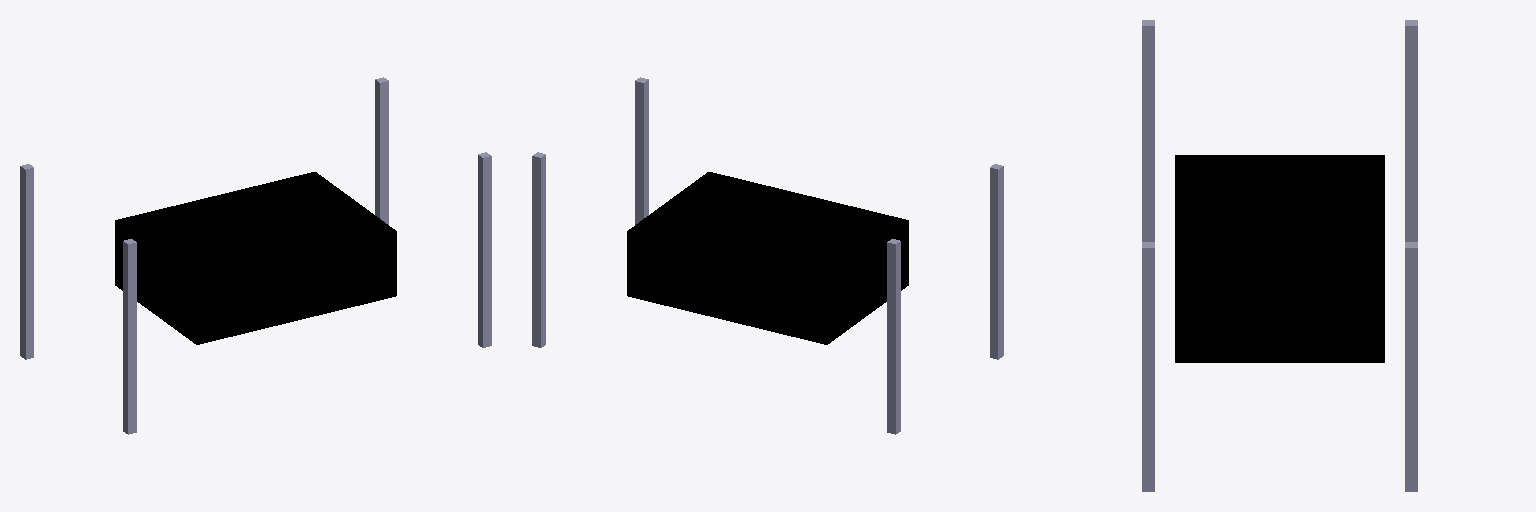
robot.urdf — minitaur:
<?xml version="1.0" ?>
<robot name="minitaur" xmlns:xacro="http://ros.org/wiki/xacro">
  <link name="base_chassis_link">
    <visual>
      <geometry>
        <box size=".226 0.16 .07"/>
      </geometry>
      <material name="black">
        <color rgba="0 0 0 1"/>
      </material>
    </visual>
    <collision>
      <geometry>
       <box size=".226 0.16 .07"/>
      </geometry>
    </collision>
    <inertial>
      <mass value="6.0"/>
      <inertia ixx="0.020687" ixy="0.0" ixz="0.0" iyy="0.05365" iyz="0.0" izz="0.035710"/>
      <origin rpy="0 0 0" xyz="0 0 0"/>
    </inertial>
  </link>

  <link name="upper_leg_front_leftL_link">
    <visual>
      <origin rpy="0 0 0" xyz="0 0 0.05"/>
      <geometry>
        <box size=".01 0.01 .11"/>
      </geometry>
      <material name="grey">
        <color rgba="0.65 0.65 0.75 1"/>
      </material>
    </visual>
    <collision>
      <geometry>
        <box size=".01 0.01 .11"/>
      </geometry>
    </collision>
    <inertial>
      <mass value="0.026"/>
      <inertia ixx="0.00001375" ixy="0.0" ixz="0.0" iyy="0.00004577" iyz="0.0" izz="0.000056083"/>
      <origin rpy="0 0 0" xyz="0 0 0.05"/>
    </inertial>
  </link>
  <joint name="motor_front_leftL_joint" type="continuous">
    <axis xyz="0 1 0"/>
    <parent link="base_chassis_link"/>
    <child link="upper_leg_front_leftL_link"/>
    <origin rpy="0 0 3.14159" xyz="0.2 0.1 0"/>
    <limit effort="100" velocity="1000"/>
    <joint_properties damping="0.0" friction="0.0"/>
  </joint>
  <transmission name="motor_front_leftL_trans" type="pr2_mechanism_model/SimpleTransmission">
    <joint name="motor_front_leftL_joint"/>
    <actuator name="motor_front_leftL_motor"/>
    <mechanicalReduction>1</mechanicalReduction>
  </transmission>

  <link name="upper_leg_front_leftR_link">
    <visual>
      <origin rpy="0 0 0" xyz="0 0 0.05"/>
      <geometry>
        <box size=".01 0.01 .11"/>
      </geometry>
      <material name="grey">
        <color rgba="0.65 0.65 0.75 1"/>
      </material>
    </visual>
    <collision>
      <geometry>
        <box size=".01 0.01 .11"/>
      </geometry>
    </collision>
    <inertial>
      <mass value="0.026"/>
      <inertia ixx="0.00001375" ixy="0.0" ixz="0.0" iyy="0.00004577" iyz="0.0" izz="0.000056083"/>
      <origin rpy="0 0 0" xyz="0 0 0.05"/>
    </inertial>
  </link>
  <joint name="motor_front_leftR_joint" type="continuous">
    <axis xyz="0 1 0"/>
    <parent link="base_chassis_link"/>
    <child link="upper_leg_front_leftR_link"/>
    <origin rpy="0 0 0" xyz="0.2 0.1 0"/>
    <limit effort="100" velocity="1000"/>
    <joint_properties damping="0.0" friction="0.0"/>
  </joint>
<transmission name="motor_front_leftR_trans" type="pr2_mechanism_model/SimpleTransmission">
    <joint name="motor_front_leftR_joint"/>
    <actuator name="motor_front_leftR_motor"/>
    <mechanicalReduction>1</mechanicalReduction>
  </transmission>
  
  <link name="lower_leg_front_leftL_link">
    <visual>
      <origin rpy="0.0 0 0" xyz="0 0 .1"/>
      <geometry>
        <box size=".01 0.01 .2"/>
      </geometry>
      <material name="grey">
        <color rgba="0.65 0.65 0.75 1"/>
      </material>
    </visual>
    <collision>
      <origin rpy="0.0 0 0" xyz="0 0 .1"/>
      <geometry>
        <box size=".01 0.01 .2"/>
      </geometry>
    </collision>
    <inertial>
      <mass value="0.05186"/>
      <inertia ixx="0.0000021756" ixy="0.0" ixz="0.0" iyy="0.0002450" iyz="0.0" izz="0.0002450"/>
      <origin rpy="0.0 0 0" xyz="0 0 .1"/>
    </inertial>
  </link>
  <joint name="knee_front_leftL_link" type="revolute">
    <axis xyz="0 1 0"/>
    <parent link="upper_leg_front_leftL_link"/>
    <child link="lower_leg_front_leftL_link"/>
    <origin rpy="3.14159 0 0" xyz="0.0 0.0 .1"/>
    <limit effort="100" velocity="1000"/>
    <joint_properties damping="0.0" friction="0.0"/>
  </joint>

  <link name="lower_leg_front_leftR_link">
    <visual>
      <origin rpy="0.0 0 0" xyz="0 0 .1"/>
      <geometry>
        <box size=".01 0.01 .2"/>
      </geometry>
      <material name="grey">
        <color rgba="0.65 0.65 0.75 1"/>
      </material>
    </visual>
    <collision>
      <origin rpy="0.0 0 0" xyz="0 0 .1"/>
      <geometry>
        <box size=".01 0.01 .2"/>
      </geometry>
    </collision>
    <inertial>
      <mass value="0.043"/>
      <inertia ixx="0.000002404" ixy="0.0" ixz="0.0" iyy="0.000270806" iyz="0.0" izz="0.000270806"/>
      <origin rpy="0.0 0 0" xyz="0 0 .1"/>
    </inertial>
  </link>
  <joint name="knee_front_leftR_link" type="revolute">
    <axis xyz="0 1 0"/>
    <parent link="upper_leg_front_leftR_link"/>
    <child link="lower_leg_front_leftR_link"/>
    <origin rpy="3.14159 0 0" xyz="0.0 0.0 .1"/>
    <limit effort="100" velocity="1000"/>
    <joint_properties damping="0.0" friction="0.0"/>
  </joint>
  
  <link name="upper_leg_back_leftL_link">
    <visual>
      <origin rpy="0 0 0" xyz="0 0 0.05"/>
      <geometry>
        <box size="0.01 0.01 .11"/>
      </geometry>
      <material name="grey">
        <color rgba="0.65 0.65 0.75 1"/>
      </material>
    </visual>
    <collision>
      <geometry>
        <box size=".01 0.01 .11"/>
      </geometry>
    </collision>
    <inertial>
      <mass value="0.026"/>
      <inertia ixx="0.00001375" ixy="0.0" ixz="0.0" iyy="0.00004577" iyz="0.0" izz="0.000056083"/>
      <origin rpy="0 0 0" xyz="0 0 0.05"/>
    </inertial>
  </link>
  <joint name="motor_back_leftL_joint" type="continuous">
    <axis xyz="0 1 0"/>
    <parent link="base_chassis_link"/>
    <child link="upper_leg_back_leftL_link"/>
    <origin rpy="0 0 3.14159" xyz="-0.2 0.1 0"/>
    <limit effort="100" velocity="1000"/>
    <joint_properties damping="0.0" friction="0.0"/>
  </joint>
  <transmission name="motor_back_leftL_trans" type="pr2_mechanism_model/SimpleTransmission">
    <joint name="motor_back_leftL_joint"/>
    <actuator name="motor_back_leftL_motor"/>
    <mechanicalReduction>1</mechanicalReduction>
  </transmission>

	<link name="upper_leg_back_leftR_link">
    <visual>
      <origin rpy="0 0 0" xyz="0 0 0.05"/>
      <geometry>
        <box size=".01 0.01 .11"/>
      </geometry>
      <material name="grey">
        <color rgba="0.65 0.65 0.75 1"/>
      </material>
    </visual>
    <collision>
      <geometry>
        <box size=".01 0.01 .11"/>
      </geometry>
    </collision>
    <inertial>
      <mass value="0.026"/>
      <inertia ixx="0.00001375" ixy="0.0" ixz="0.0" iyy="0.00004577" iyz="0.0" izz="0.000056083"/>
      <origin rpy="0 0 0" xyz="0 0 0.05"/>
    </inertial>
  </link>
  <joint name="motor_back_leftR_joint" type="continuous">
    <axis xyz="0 1 0"/>
    <parent link="base_chassis_link"/>
    <child link="upper_leg_back_leftR_link"/>
    <origin rpy="0 0 0" xyz="-0.2 0.1 0"/>
    <limit effort="100" velocity="1000"/>
    <joint_properties damping="0.0" friction="0.0"/>
  </joint>
  <transmission name="motor_back_leftR_trans" type="pr2_mechanism_model/SimpleTransmission">
    <joint name="motor_back_leftR_joint"/>
    <actuator name="motor_back_leftR_motor"/>
    <mechanicalReduction>1</mechanicalReduction>
  </transmission>
  
  <link name="lower_leg_back_leftL_link">
    <visual>
    	<origin rpy="0.0 0 0" xyz="0 0 .1"/>
      <geometry>
        <box size=".01 0.01 .2"/>
      </geometry>
      <material name="grey">
        <color rgba="0.65 0.65 0.75 1"/>
      </material>
    </visual>
    <collision>
    	<origin rpy="0.0 0 0" xyz="0 0 .1"/>
      <geometry>
        <box size=".01 0.01 .2"/>
      </geometry>
    </collision>
    <inertial>
      <mass value="0.05186"/>
      <inertia ixx="0.0000021756" ixy="0.0" ixz="0.0" iyy="0.0002450" iyz="0.0" izz="0.0002450"/>
      <origin rpy="0.0 0 0" xyz="0 0 .1"/>
    </inertial>
  </link>
  <joint name="knee_back_leftL_link" type="revolute">
    <axis xyz="0 1 0"/>
    <parent link="upper_leg_back_leftL_link"/>
    <child link="lower_leg_back_leftL_link"/>
    <origin rpy="3.14159 0 0" xyz="0.0 0.0 .1"/>
    <limit effort="100" velocity="1000"/>
    <joint_properties damping="0.0" friction="0.0"/>
  </joint>
  
<link name="lower_leg_back_leftR_link">
    <visual>
      <origin rpy="0.0 0 0" xyz="0 0 .1"/>
      <geometry>
        <box size=".01 0.01 .2"/>
      </geometry>
      <material name="grey">
        <color rgba="0.65 0.65 0.75 1"/>
      </material>
    </visual>
    <collision>
      <origin rpy="0.0 0 0" xyz="0 0 .1"/>
      <geometry>
        <box size=".01 0.01 .2"/>
      </geometry>
    </collision>
    <inertial>
      <mass value="0.043"/>
      <inertia ixx="0.000002404" ixy="0.0" ixz="0.0" iyy="0.000270806" iyz="0.0" izz="0.000270806"/>
      <origin rpy="0.0 0 0" xyz="0 0 .1"/>
    </inertial>
  </link>
  <joint name="knee_back_leftR_link" type="revolute">
    <axis xyz="0 1 0"/>
    <parent link="upper_leg_back_leftR_link"/>
    <child link="lower_leg_back_leftR_link"/>
    <origin rpy="3.14159 0 0" xyz="0.0 0.0 .1"/>
    <limit effort="100" velocity="1000"/>
    <joint_properties damping="0.0" friction="0.0"/>
  </joint>

  <link name="upper_leg_front_rightL_link">
    <visual>
      <origin rpy="0 0 0" xyz="0 0 0.05"/>
      <geometry>
        <box size=".01 0.01 .11"/>
      </geometry>
      <material name="grey">
        <color rgba="0.65 0.65 0.75 1"/>
      </material>
    </visual>
    <collision>
      <geometry>
        <box size=".01 0.01 .11"/>
      </geometry>
    </collision>
    <inertial>
      <mass value="0.026"/>
      <inertia ixx="0.00001375" ixy="0.0" ixz="0.0" iyy="0.00004577" iyz="0.0" izz="0.000056083"/>
      <origin rpy="0 0 0" xyz="0 0 0.05"/>
    </inertial>
  </link>
  <joint name="motor_front_rightL_joint" type="continuous">
    <axis xyz="0 1 0"/>
    <parent link="base_chassis_link"/>
    <child link="upper_leg_front_rightL_link"/>
    <origin rpy="0 0 0" xyz="0.2 -0.1 0"/>
    <limit effort="100" velocity="1000"/>
    <joint_properties damping="0.0" friction="0.0"/>
  </joint>
  <transmission name="motor_front_rightL_trans" type="pr2_mechanism_model/SimpleTransmission">
    <joint name="motor_front_rightL_joint"/>
    <actuator name="motor_front_rightL_motor"/>
    <mechanicalReduction>1</mechanicalReduction>
  </transmission>

  <link name="upper_leg_front_rightR_link">
    <visual>
      <origin rpy="0 0 0" xyz="0 0 0.05"/>
      <geometry>
        <box size=".01 0.01 .11"/>
      </geometry>
      <material name="grey">
        <color rgba="0.65 0.65 0.75 1"/>
      </material>
    </visual>
    <collision>
      <geometry>
        <box size=".01 0.01 .11"/>
      </geometry>
    </collision>
    <inertial>
      <mass value="0.026"/>
      <inertia ixx="0.00001375" ixy="0.0" ixz="0.0" iyy="0.00004577" iyz="0.0" izz="0.000056083"/>
      <origin rpy="0 0 0" xyz="0 0 0.05"/>
    </inertial>
  </link>
  <joint name="motor_front_rightR_joint" type="continuous">
    <axis xyz="0 1 0"/>
    <parent link="base_chassis_link"/>
    <child link="upper_leg_front_rightR_link"/>
    <origin rpy="0 0 3.14159" xyz="0.2 -0.1 0"/>
    <limit effort="100" velocity="1000"/>
    <joint_properties damping="0.0" friction="0.0"/>
  </joint>
  <transmission name="motor_front_rightR_trans" type="pr2_mechanism_model/SimpleTransmission">
    <joint name="motor_front_rightR_joint"/>
    <actuator name="motor_front_rightR_motor"/>
    <mechanicalReduction>1</mechanicalReduction>
  </transmission>
  
  <link name="lower_leg_front_rightL_link">
    <visual>
      <origin rpy="0.0 0 0" xyz="0 0 .1"/>
      <geometry>
        <box size=".01 0.01 .2"/>
      </geometry>
      <material name="grey">
        <color rgba="0.65 0.65 0.75 1"/>
      </material>
    </visual>
    <collision>
      <origin rpy="0.0 0 0" xyz="0 0 .1"/>
      <geometry>
        <box size=".01 0.01 .2"/>
      </geometry>
    </collision>
    <inertial>
      <mass value="0.05186"/>
      <inertia ixx="0.0000021756" ixy="0.0" ixz="0.0" iyy="0.0002450" iyz="0.0" izz="0.0002450"/>
      <origin rpy="0.0 0 0" xyz="0 0 .1"/>
    </inertial>
  </link>
  <joint name="knee_front_rightL_link" type="revolute">
    <axis xyz="0 1 0"/>
    <parent link="upper_leg_front_rightL_link"/>
    <child link="lower_leg_front_rightL_link"/>
    <origin rpy="3.14159 0 0" xyz="0.0 0.0 .1"/>
    <limit effort="100" velocity="1000"/>
    <joint_properties damping="0.0" friction="0.0"/>
  </joint>  

  <link name="lower_leg_front_rightR_link">
    <visual>
      <origin rpy="0.0 0 0" xyz="0 0 .1"/>
      <geometry>
        <box size=".01 0.01 .2"/>
      </geometry>
      <material name="grey">
        <color rgba="0.65 0.65 0.75 1"/>
      </material>
    </visual>
    <collision>
      <origin rpy="0.0 0 0" xyz="0 0 .1"/>
      <geometry>
        <box size=".01 0.01 .2"/>
      </geometry>
    </collision>
    <inertial>
      <mass value="0.043"/>
      <inertia ixx="0.000002404" ixy="0.0" ixz="0.0" iyy="0.000270806" iyz="0.0" izz="0.000270806"/>
      <origin rpy="0.0 0 0" xyz="0 0 .1"/>
    </inertial>
  </link>
  <joint name="knee_front_rightR_link" type="revolute">
    <axis xyz="0 1 0"/>
    <parent link="upper_leg_front_rightR_link"/>
    <child link="lower_leg_front_rightR_link"/>
    <origin rpy="3.14159 0 0" xyz="0.0 0.0 .1"/>
    <limit effort="100" velocity="1000"/>
    <joint_properties damping="0.0" friction="0.0"/>
  </joint>
  
  <link name="upper_leg_back_rightL_link">
    <visual>
      <origin rpy="0 0 0" xyz="0 0 0.05"/>
      <geometry>
        <box size=".01 0.01 .11"/>
      </geometry>
      <material name="grey">
        <color rgba="0.65 0.65 0.75 1"/>
      </material>
    </visual>
    <collision>
      <geometry>
        <box size=".01 0.01 .11"/>
      </geometry>
    </collision>
    <inertial>
      <mass value="0.026"/>
      <inertia ixx="0.00001375" ixy="0.0" ixz="0.0" iyy="0.00004577" iyz="0.0" izz="0.000056083"/>
      <origin rpy="0 0 0" xyz="0 0 0.05"/>
    </inertial>
  </link>
  <joint name="motor_back_rightL_joint" type="continuous">
    <axis xyz="0 1 0"/>
    <parent link="base_chassis_link"/>
    <child link="upper_leg_back_rightL_link"/>
    <origin rpy="0 0 0" xyz="-0.2 -0.1 0"/>
    <limit effort="100" velocity="1000"/>
    <joint_properties damping="0.0" friction="0.0"/>
  </joint>
  <transmission name="motor_back_rightL_trans" type="pr2_mechanism_model/SimpleTransmission">
    <joint name="motor_back_rightL_joint"/>
    <actuator name="motor_back_rightL_motor"/>
    <mechanicalReduction>1</mechanicalReduction>
  </transmission>

	<link name="upper_leg_back_rightR_link">
    <visual>
      <origin rpy="0 0 0" xyz="0 0 0.05"/>
      <geometry>
        <box size=".01 0.01 .11"/>
      </geometry>
      <material name="grey">
        <color rgba="0.65 0.65 0.75 1"/>
      </material>
    </visual>
    <collision>
      <geometry>
        <box size=".01 0.01 .11"/>
      </geometry>
    </collision>
    <inertial>
      <mass value="0.026"/>
      <inertia ixx="0.00001375" ixy="0.0" ixz="0.0" iyy="0.00004577" iyz="0.0" izz="0.000056083"/>
      <origin rpy="0 0 0" xyz="0 0 0.05"/>
    </inertial>
  </link>
  <joint name="motor_back_rightR_joint" type="continuous">
    <axis xyz="0 1 0"/>
    <parent link="base_chassis_link"/>
    <child link="upper_leg_back_rightR_link"/>
    <origin rpy="0 0 3.14159" xyz="-0.2 -0.1 0"/>
    <limit effort="100" velocity="1000"/>
    <joint_properties damping="0.0" friction="0.0"/>
  </joint>
  <transmission name="motor_back_rightR_trans" type="pr2_mechanism_model/SimpleTransmission">
    <joint name="motor_back_rightR_joint"/>
    <actuator name="motor_back_rightR_motor"/>
    <mechanicalReduction>1</mechanicalReduction>
  </transmission>
  
  <link name="lower_leg_back_rightL_link">
    <visual>
    	<origin rpy="0.0 0 0" xyz="0 0 .1"/>
      <geometry>
        <box size=".01 0.01 .2"/>
      </geometry>
      <material name="grey">
        <color rgba="0.65 0.65 0.75 1"/>
      </material>
    </visual>
    <collision>
    	<origin rpy="0.0 0 0" xyz="0 0 .1"/>
      <geometry>
        <box size=".01 0.01 .2"/>
      </geometry>
    </collision>
    <inertial>
      <mass value="0.05186"/>
      <inertia ixx="0.0000021756" ixy="0.0" ixz="0.0" iyy="0.0002450" iyz="0.0" izz="0.0002450"/>
      <origin rpy="0.0 0 0" xyz="0 0 .1"/>
    </inertial>
  </link>
  <joint name="knee_back_rightL_link" type="revolute">
    <axis xyz="0 1 0"/>
    <parent link="upper_leg_back_rightL_link"/>
    <child link="lower_leg_back_rightL_link"/>
    <origin rpy="3.14159 0 0" xyz="0.0 0.0 .1"/>
    <limit effort="100" velocity="1000"/>
    <joint_properties damping="0.0" friction="0.0"/>
  </joint>

  <link name="lower_leg_back_rightR_link">
    <visual>
      <origin rpy="0.0 0 0" xyz="0 0 .1"/>
      <geometry>
        <box size=".01 0.01 .2"/>
      </geometry>
      <material name="grey">
        <color rgba="0.65 0.65 0.75 1"/>
      </material>
    </visual>
    <collision>
      <origin rpy="0.0 0 0" xyz="0 0 .1"/>
      <geometry>
        <box size=".01 0.01 .2"/>
      </geometry>
    </collision>
    <inertial>
      <mass value="0.043"/>
      <inertia ixx="0.000002404" ixy="0.0" ixz="0.0" iyy="0.000270806" iyz="0.0" izz="0.000270806"/>
      <origin rpy="0.0 0 0" xyz="0 0 .1"/>
    </inertial>
  </link>
  <joint name="knee_back_rightR_link" type="revolute">
    <axis xyz="0 1 0"/>
    <parent link="upper_leg_back_rightR_link"/>
    <child link="lower_leg_back_rightR_link"/>
    <origin rpy="3.14159 0 0" xyz="0.0 0.0 .1"/>
    <limit effort="100" velocity="1000"/>
    <joint_properties damping="0.0" friction="0.0"/>
  </joint>
  
  
 
</robot>


--- What the picture shows (computed from the rendered views, not written in the file) ---
3 views of the same robot in one strip: view 1: azimuth 30°, elevation 25°; view 2: azimuth 150°, elevation 25°; view 3: azimuth 270°, elevation 25° (orthographic).
Robot: minitaur — 17 links, 16 joints (8 revolute, 8 continuous); root link base_chassis_link; default pose: every joint at zero.
Links seen in each view (by area): view 1: base_chassis_link, lower_leg_back_leftR_link, lower_leg_back_rightL_link, lower_leg_front_rightL_link, lower_leg_front_leftR_link; view 2: base_chassis_link, lower_leg_back_leftL_link, lower_leg_back_rightR_link, lower_leg_front_leftL_link, lower_leg_front_rightR_link; view 3: base_chassis_link, upper_leg_back_rightL_link, lower_leg_front_rightL_link, lower_leg_back_rightL_link, upper_leg_front_leftL_link, upper_leg_front_rightL_link, lower_leg_front_leftL_link, lower_leg_back_leftR_link, upper_leg_back_leftR_link, upper_leg_back_leftL_link, lower_leg_front_leftR_link, upper_leg_front_rightR_link.
Boxes of the visible links, x1,y1,x2,y2 form: base_chassis_link: (115, 172, 396, 344); lower_leg_back_leftR_link: (20, 171, 33, 359); lower_leg_back_rightL_link: (123, 246, 136, 434); lower_leg_front_rightL_link: (478, 160, 491, 347); lower_leg_front_leftR_link: (375, 86, 388, 224); base_chassis_link: (627, 172, 908, 344); lower_leg_back_leftL_link: (887, 247, 900, 434); lower_leg_back_rightR_link: (990, 171, 1003, 359); lower_leg_front_leftL_link: (532, 162, 545, 347); lower_leg_front_rightR_link: (635, 84, 648, 224); base_chassis_link: (1175, 155, 1384, 362); upper_leg_back_rightL_link: (1142, 20, 1154, 156); lower_leg_front_rightL_link: (1142, 255, 1154, 491); lower_leg_back_rightL_link: (1142, 32, 1154, 241); upper_leg_front_leftL_link: (1405, 242, 1417, 378); upper_leg_front_rightL_link: (1142, 242, 1154, 378); lower_leg_front_leftL_link: (1405, 254, 1417, 491); lower_leg_back_leftR_link: (1405, 32, 1417, 241); upper_leg_back_leftR_link: (1405, 20, 1417, 156); upper_leg_back_leftL_link: (1405, 21, 1417, 156); lower_leg_front_leftR_link: (1405, 254, 1417, 491); upper_leg_front_rightR_link: (1143, 243, 1154, 378).
Bounding box of the posed robot: 0.41 × 0.21 × 0.205 m (x, y, z).
Geometry: primitives only (box / cylinder / sphere), no mesh files.